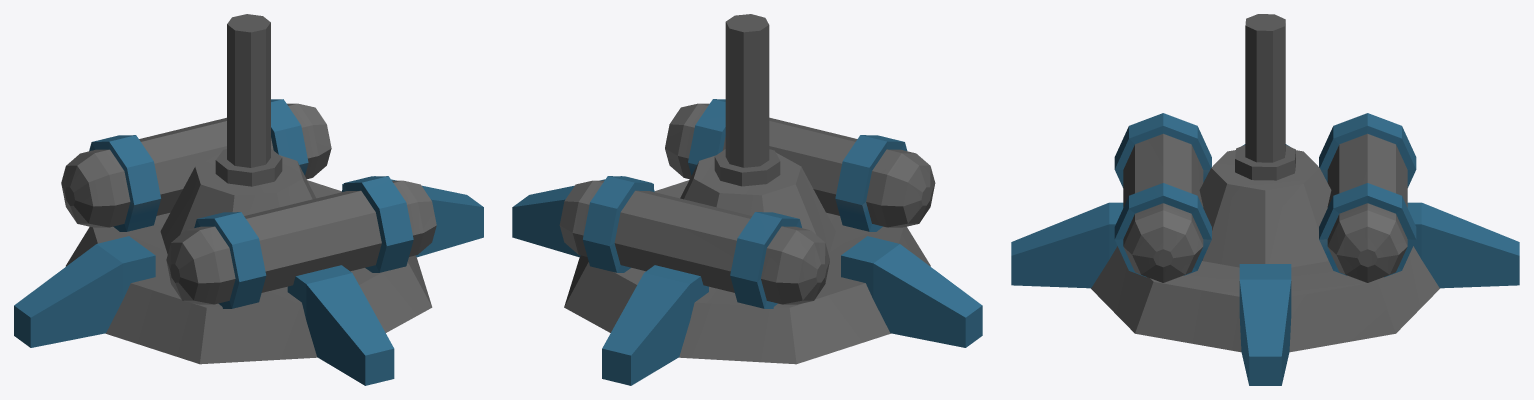
File: Body.obj
The picture shows the model from 3 angles, left to right: view 1: azimuth 30°, elevation 25°; view 2: azimuth 150°, elevation 25°; view 3: azimuth 270°, elevation 25°; orthographic projection. The views are drawn at different scales.
Parts seen in each view (by area): view 1: Circle.006; view 2: Circle.006; view 3: Circle.006.
Part boxes in pixels (left/top/right/bottom): Circle.006: left=14, top=14, right=483, bottom=385; Circle.006: left=512, top=14, right=982, bottom=385; Circle.006: left=1011, top=14, right=1519, bottom=385.
Size of the model in its own units: 2.76 by 1.53 by 2.76.
